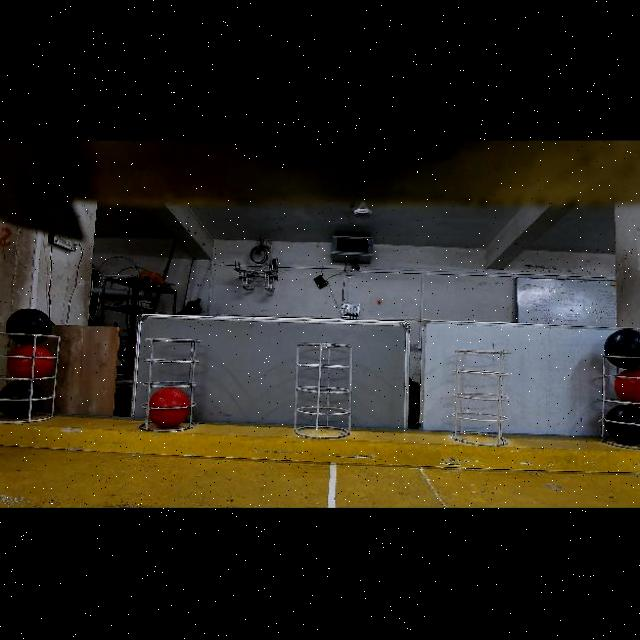P: (6, 309, 52, 345), (0, 381, 44, 418), (604, 404, 640, 446), (604, 329, 640, 370)
R: (7, 344, 53, 378), (151, 389, 190, 428), (614, 367, 640, 403)
S: (292, 338, 356, 444), (1, 332, 64, 428), (446, 352, 512, 443), (138, 334, 194, 434), (598, 351, 640, 452)
